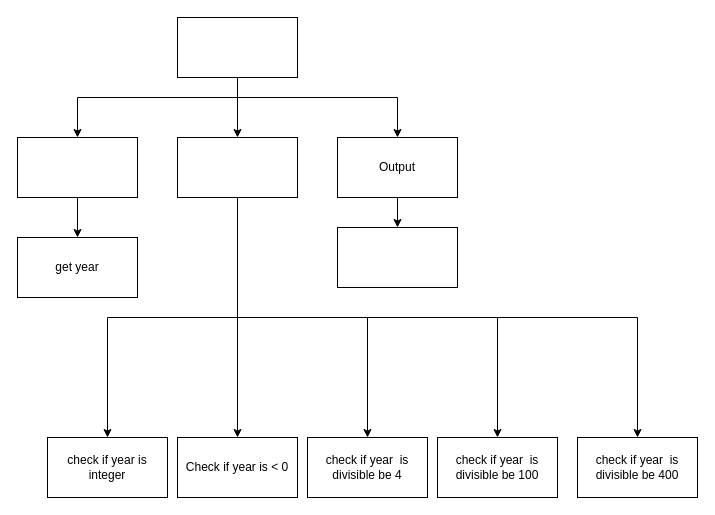
Some shapes in this 715 by 515 pixel diagram are drawn without their labels. Here are the shapes that lost their labels. From the top down, the centre of each, then its label:
point 237,47: leap year
point 77,167: Input
point 237,167: Process
point 397,257: Show if it is a leap year or not
